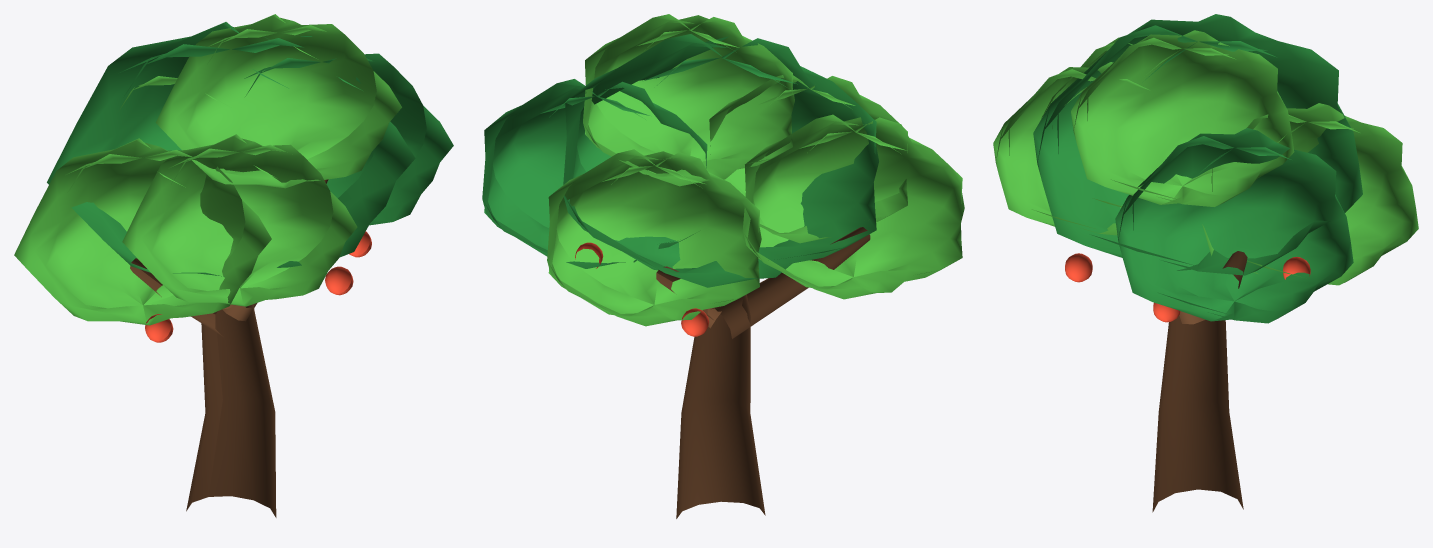
The model's file is fruit_tree.glb.
3 views of the same model, side by side, from view 1: azimuth 30°, elevation 25°; view 2: azimuth 150°, elevation 25°; view 3: azimuth 270°, elevation 25° (orthographic). The views are drawn at different scales.
Visible parts, largest first — view 1: OrchardTree; view 2: OrchardTree; view 3: OrchardTree.
Part boxes in pixels (bbox=[...]): OrchardTree: bbox=[14, 14, 453, 517]; OrchardTree: bbox=[482, 14, 964, 518]; OrchardTree: bbox=[993, 14, 1418, 512].
Size of the model in its own units: 4.86 by 5.23 by 4.1.
